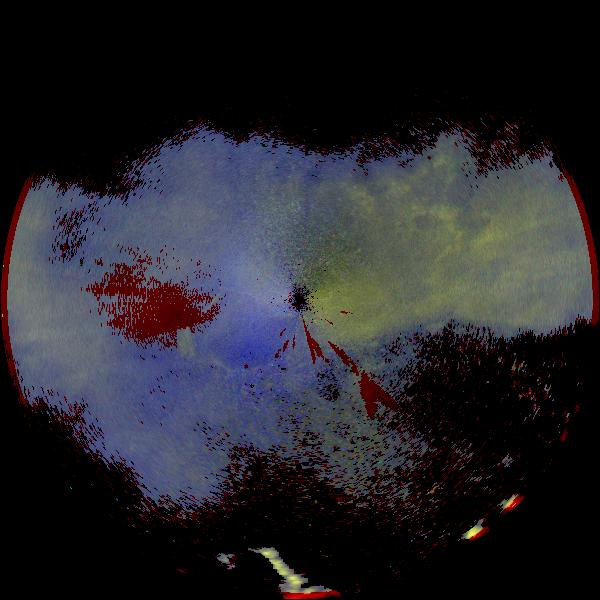roost: (120, 310, 219, 409)
